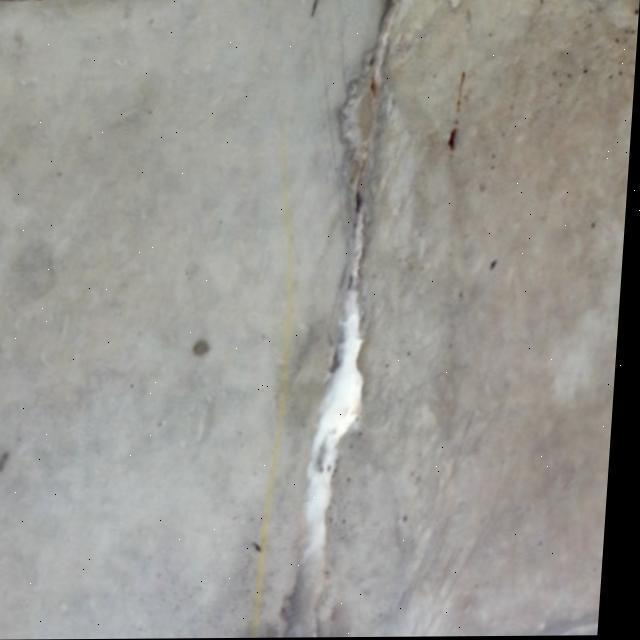D01: (306, 286, 363, 557)
